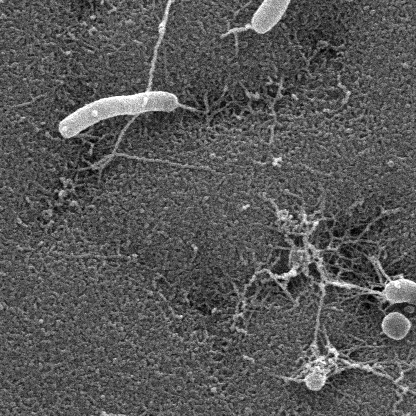cell2surface: (144, 0, 184, 90), (218, 25, 257, 42)
regular: (58, 92, 182, 136), (251, 0, 308, 33)
